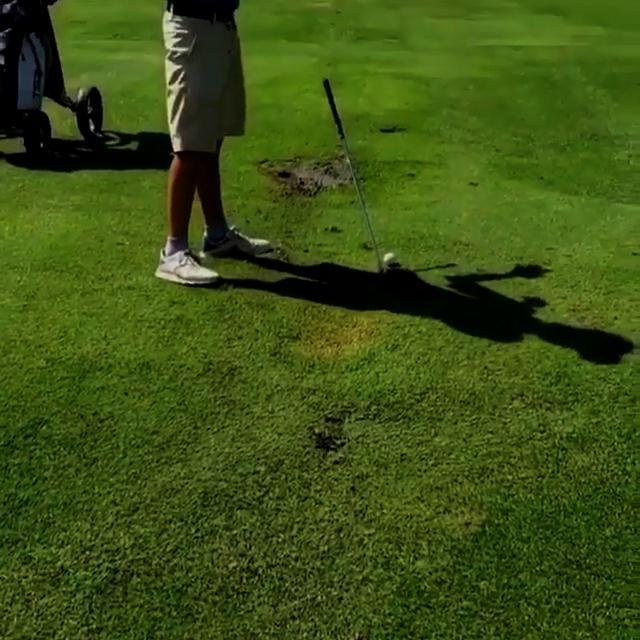golf ball: (383, 252, 399, 264)
golf club-handle: (320, 74, 425, 295)
golf club-head: (380, 268, 417, 293)
